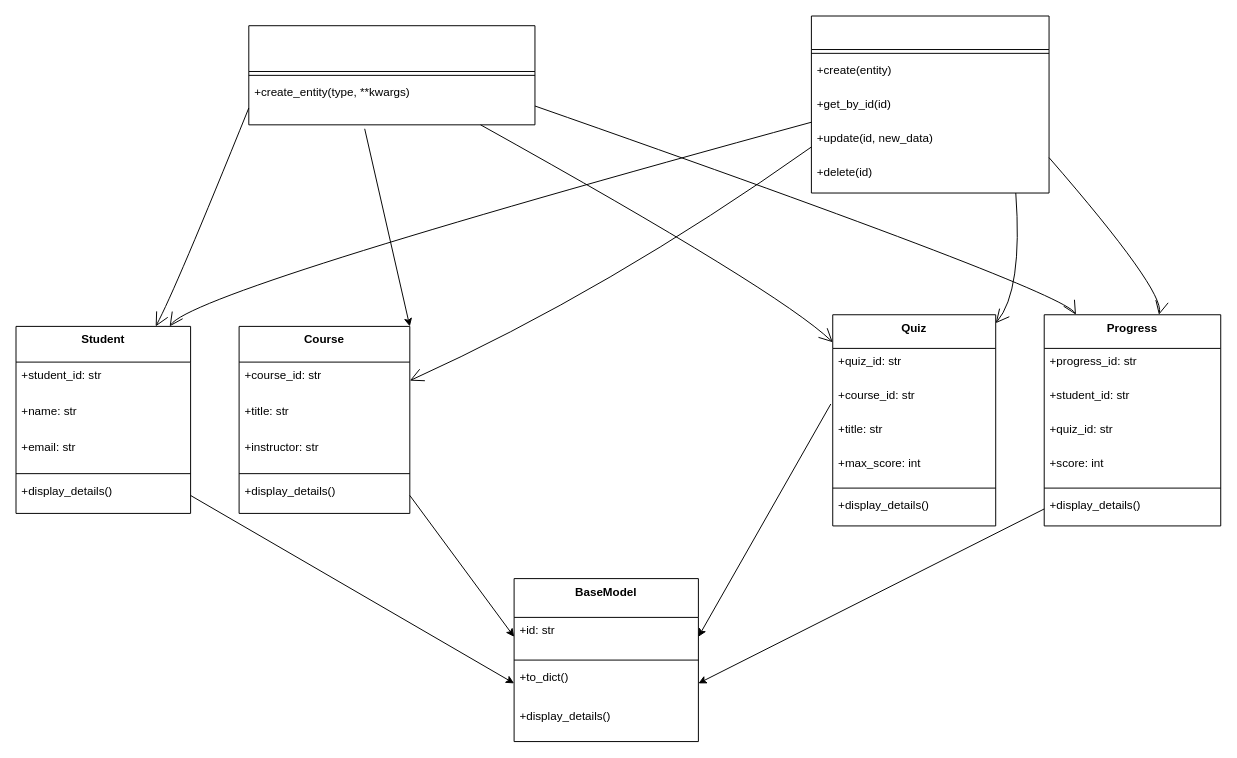
Image size: 1237x758. Some labels were removed from this diagram. The shapes that lost their labels are listed below. From the top down, each one's box as (x1, y1, x2, y2) in pixels, then its label:
(248, 25, 535, 125): EntityFactory
(810, 15, 1049, 193): JsonRepository
